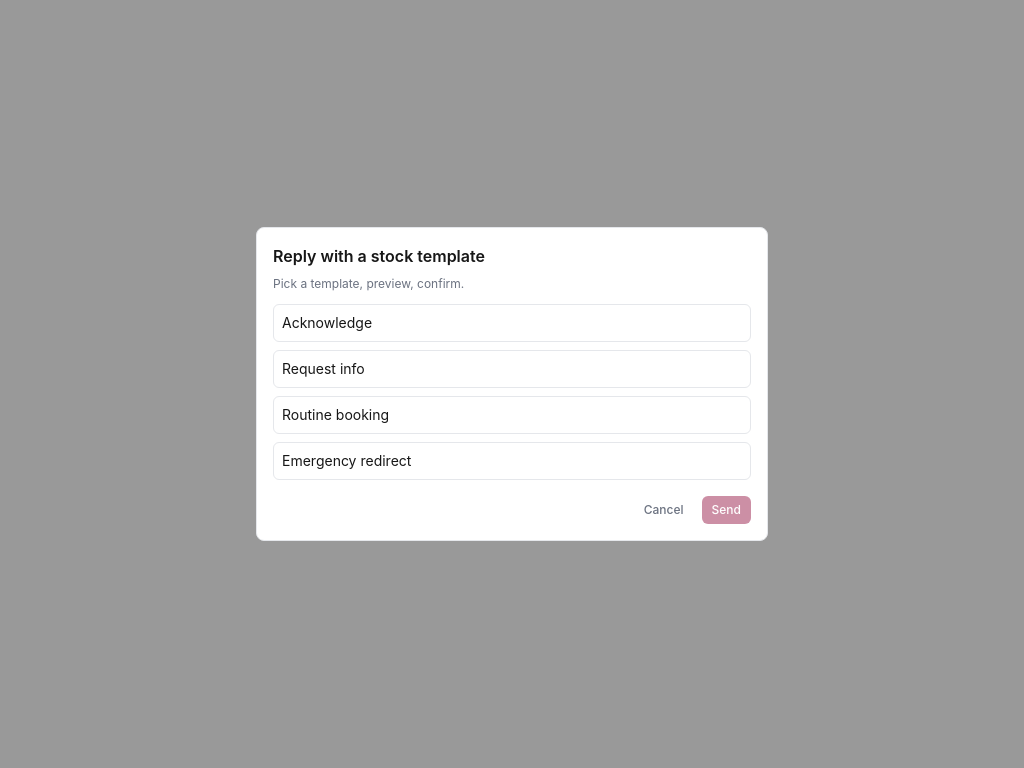
Test: StockReplyModal › renders English preview when customer language is en
Click the button "Acknowledge" at [327, 322], box x1=273 y1=304 x2=751 y2=342
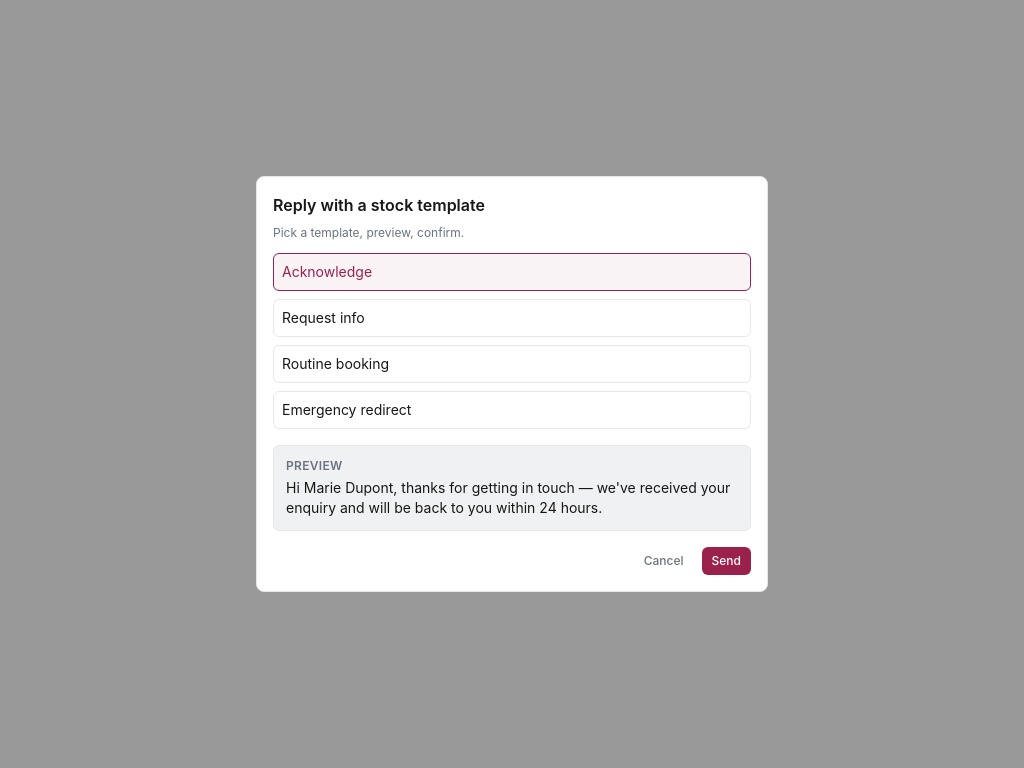
Expected: the text "Hi Marie Dupont" is shown, x1=286 y1=479 x2=734 y2=516
